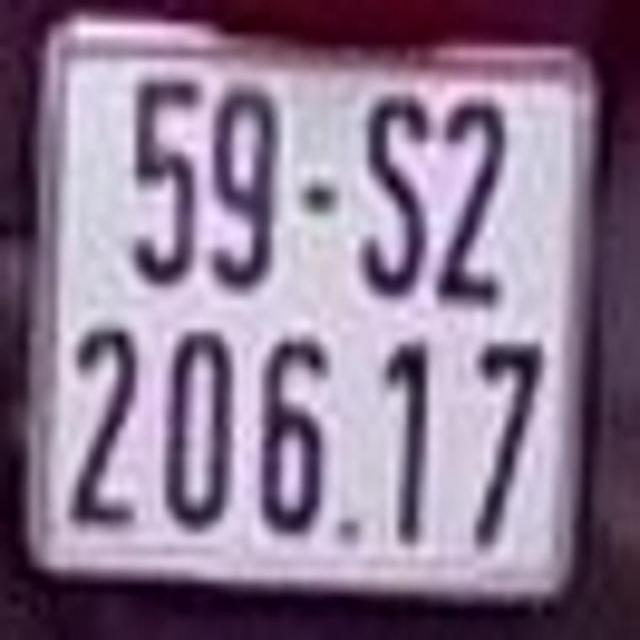0: (169, 326, 225, 536)
1: (389, 338, 426, 544)
2: (428, 83, 496, 296), (68, 328, 135, 527)
5: (128, 77, 195, 272)
6: (257, 330, 320, 529)
7: (465, 340, 542, 542)
9: (206, 80, 270, 282)
S: (364, 90, 418, 282)
